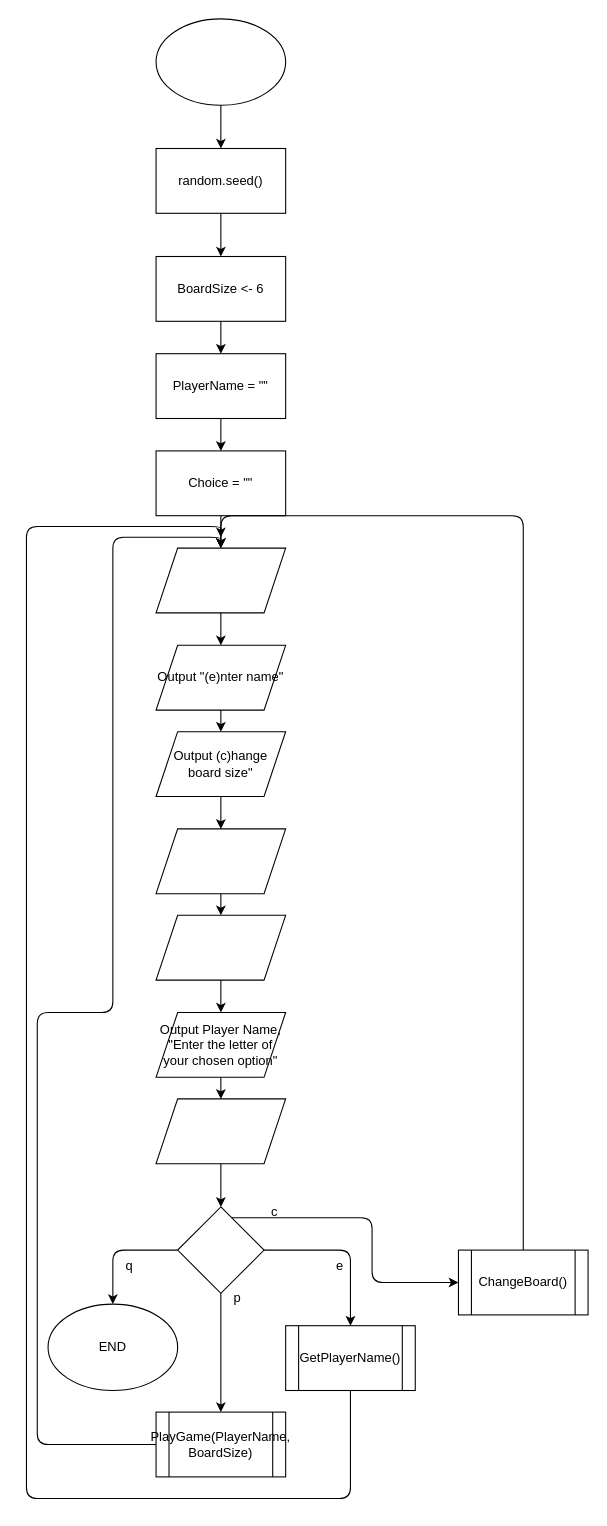
The diagram is 607 pixels wide and 1526 high, and some of its shapes have lost their labels. The shapes that lost their labels are listed below. From the top down, each one's centre as x and y in pixels, then its label:
[220,61]: Start
[220,580]: Output "(p)lay game
[220,861]: Output (q)uit
[220,947]: Output ""
[220,1131]: INPUT Choice
[220,1249]: IF Choice =
